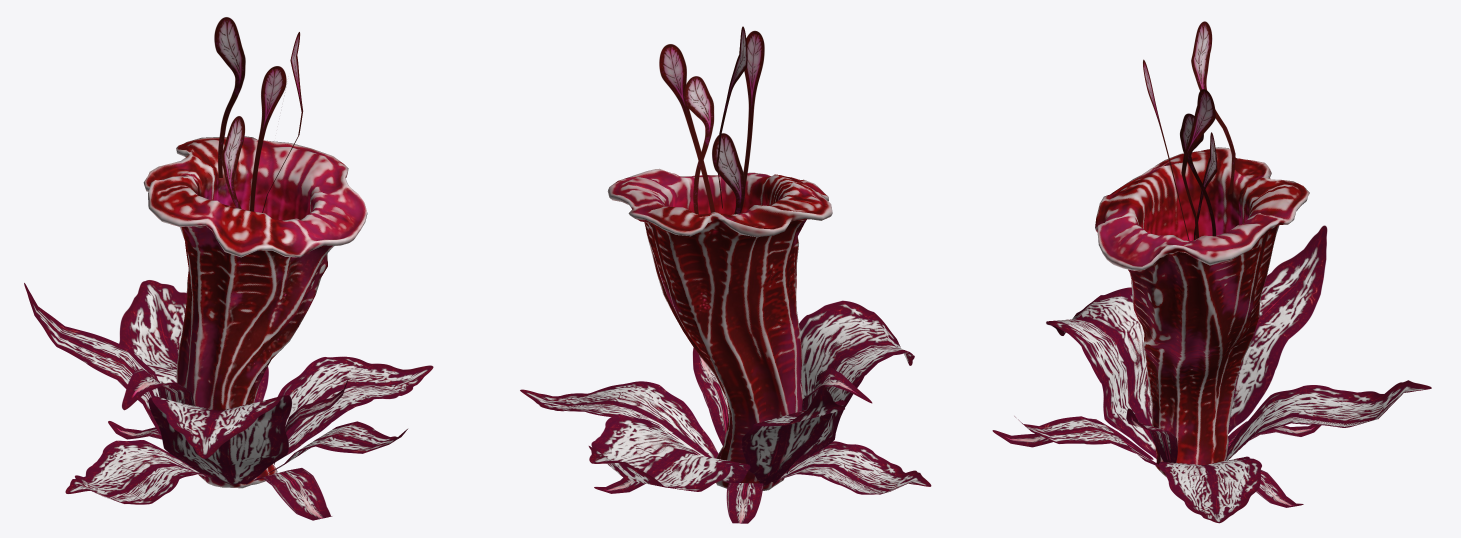
Rendered from alien_red_plants_01.glb.
3 renders of one model, left to right at view 1: azimuth 30°, elevation 25°; view 2: azimuth 150°, elevation 25°; view 3: azimuth 270°, elevation 25°, orthographic. The views are drawn at different scales.
Parts seen in each view (by area): view 1: Retopo_cup_plant_high_3.001_openPBR_shader1_0; view 2: Retopo_cup_plant_high_3.001_openPBR_shader1_0; view 3: Retopo_cup_plant_high_3.001_openPBR_shader1_0.
Boxes of the visible parts, box(x1,y1,x2,y2) form: Retopo_cup_plant_high_3.001_openPBR_shader1_0: box(24, 17, 433, 520); Retopo_cup_plant_high_3.001_openPBR_shader1_0: box(520, 26, 931, 523); Retopo_cup_plant_high_3.001_openPBR_shader1_0: box(992, 21, 1431, 523).
Bounding box in the file's own units: 3.09 × 3.37 × 3.1.
Materials: 2 (2 with a texture image).
